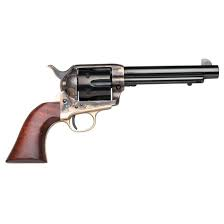gun: (5, 59, 220, 164)
